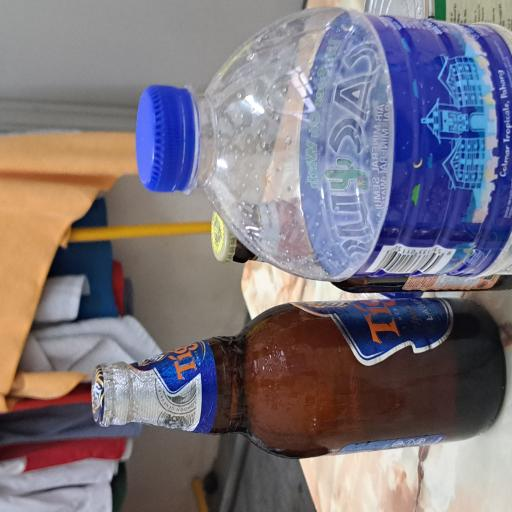glass bottle: (36, 120, 160, 512), (164, 279, 233, 512)
plastic bottle: (170, 258, 380, 512)
plastic bottle cap: (236, 180, 321, 257)
